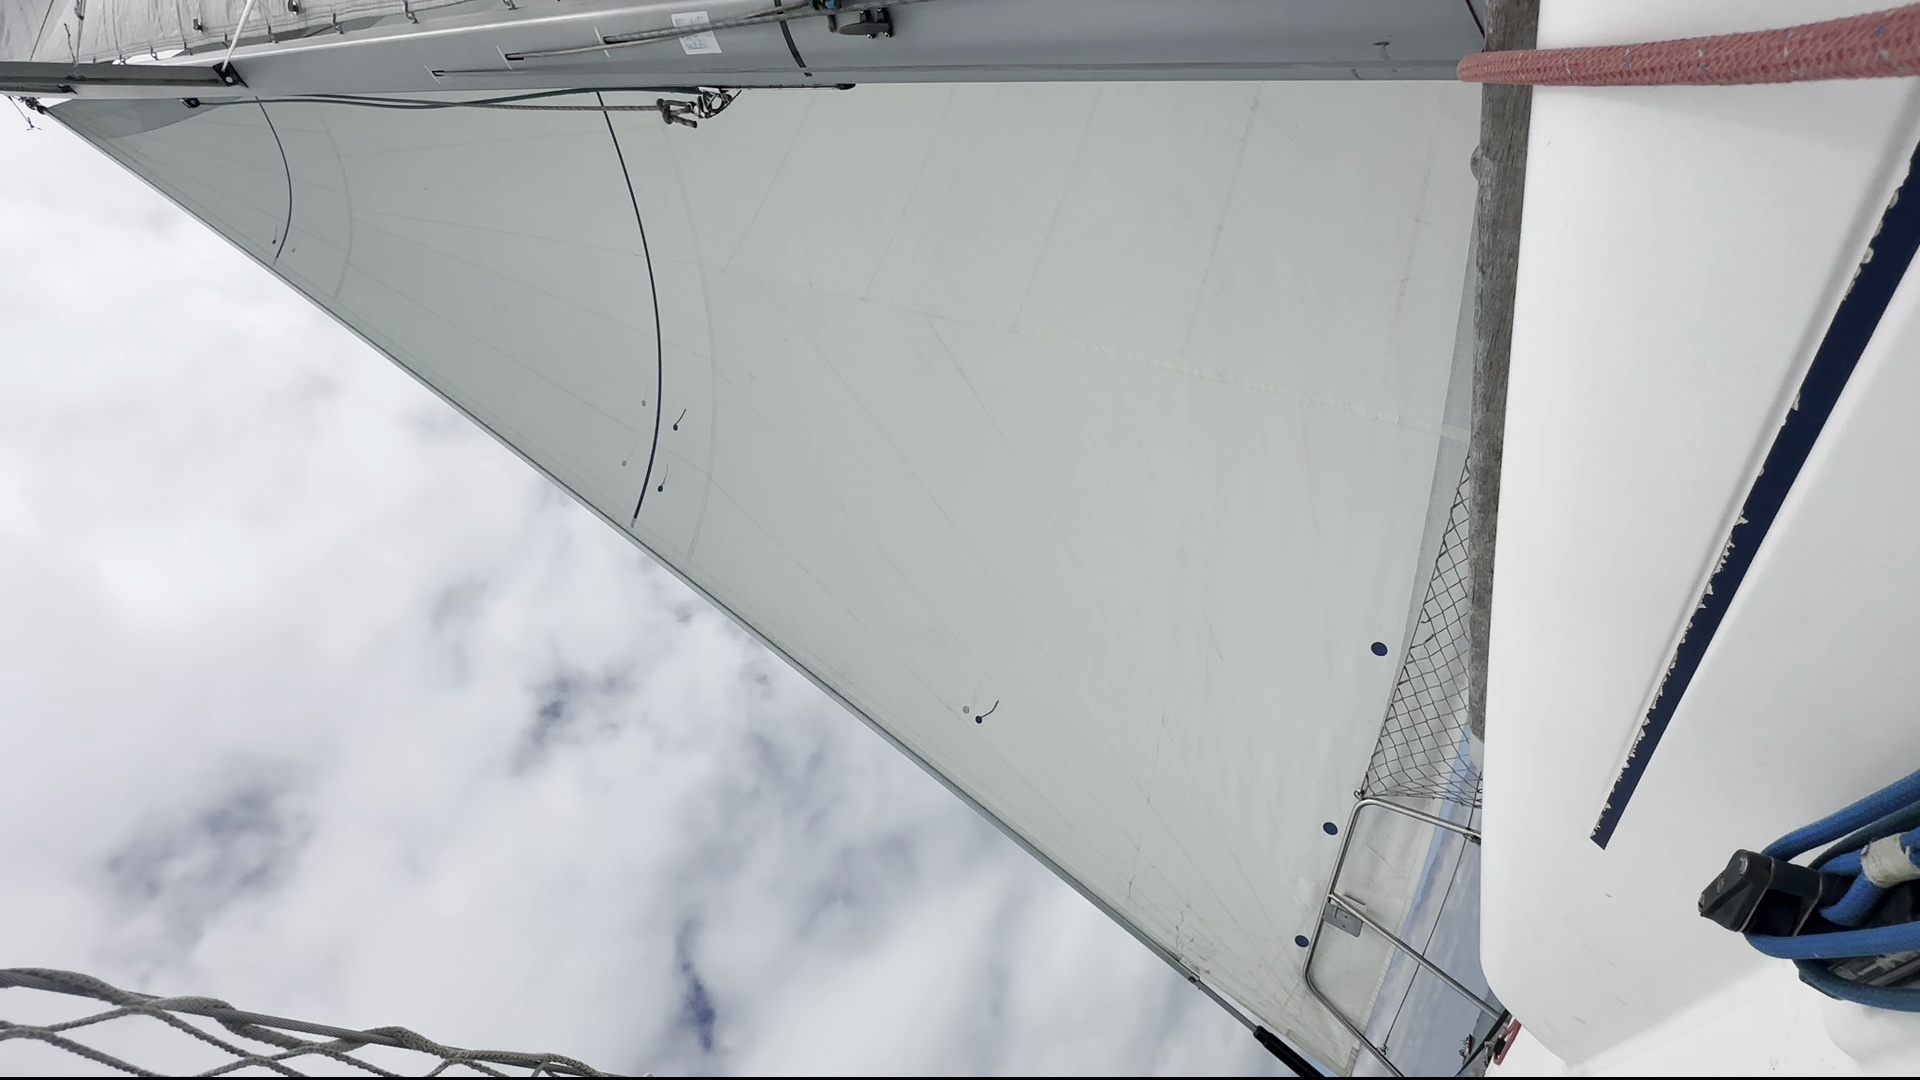pennon_attached: (650, 458, 680, 495), (670, 405, 694, 433)
pennon_detached: (971, 694, 1005, 728)
